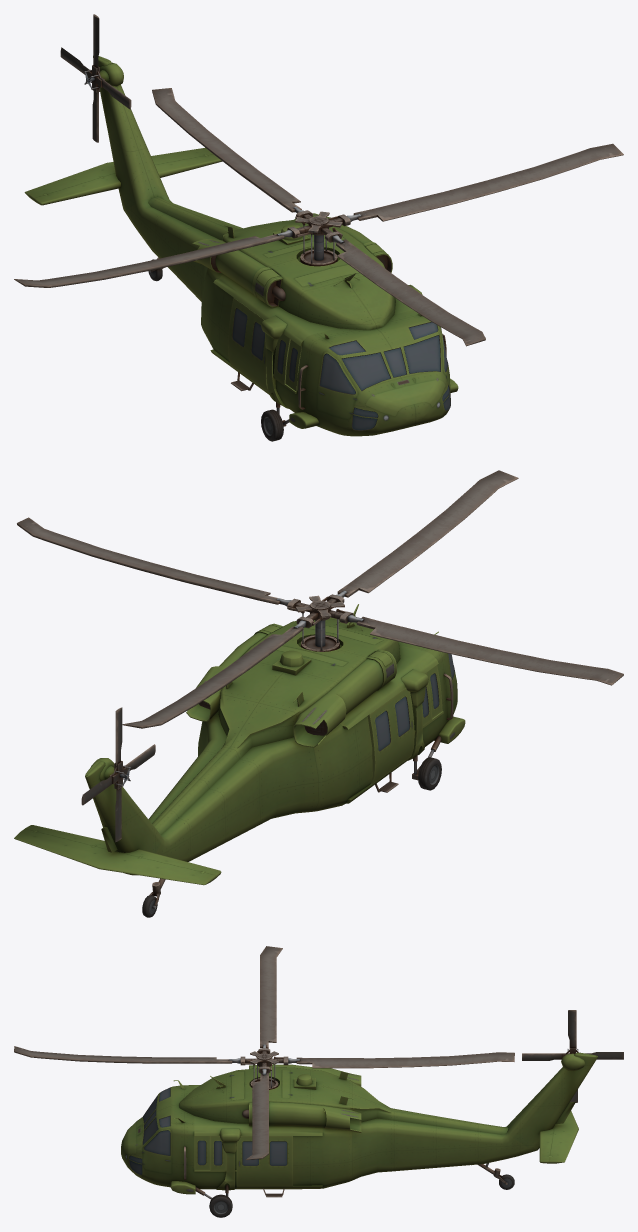
File: MilitaryHelicopter01Drv.FBX
3 renders of one model, top to bottom at view 1: azimuth 30°, elevation 25°; view 2: azimuth 150°, elevation 25°; view 3: azimuth 270°, elevation 25°, orthographic. The views are drawn at different scales.
Visible parts, largest first — view 1: MilitaryHelicopter01Body, BladesFront, BladesRear, WheelFrontRight; view 2: MilitaryHelicopter01Body, BladesFront, BladesRear, WheelFrontRight; view 3: MilitaryHelicopter01Body, BladesFront, BladesRear, WheelFrontLeft.
Boxes of the visible parts, x1,y1,x2,y2 form: MilitaryHelicopter01Body: (24, 56, 458, 436); BladesFront: (14, 88, 623, 346); BladesRear: (60, 14, 131, 142); WheelFrontRight: (261, 409, 283, 441); MilitaryHelicopter01Body: (14, 604, 465, 908); BladesFront: (17, 470, 623, 728); BladesRear: (81, 707, 155, 842); WheelFrontRight: (418, 757, 441, 790); MilitaryHelicopter01Body: (121, 1052, 597, 1199); BladesFront: (14, 946, 514, 1159); BladesRear: (522, 1010, 623, 1102); WheelFrontLeft: (209, 1194, 232, 1217).
Size of what is drawn, in the model's own units: 17.37 by 6.66 by 21.15.
